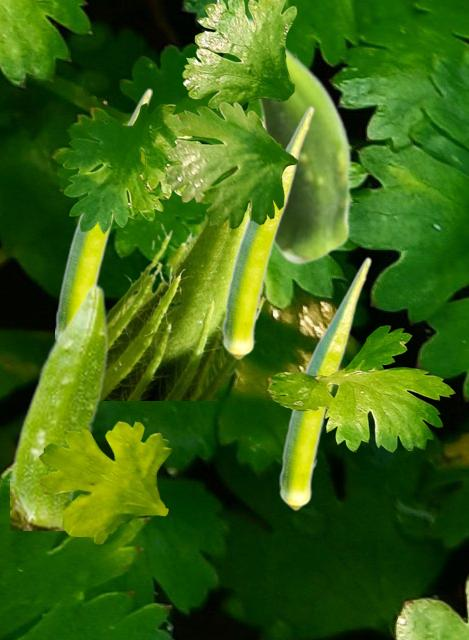okra: (102, 117, 276, 399), (248, 17, 353, 264), (10, 282, 108, 529), (55, 87, 151, 337), (222, 105, 314, 359), (279, 256, 371, 510)
